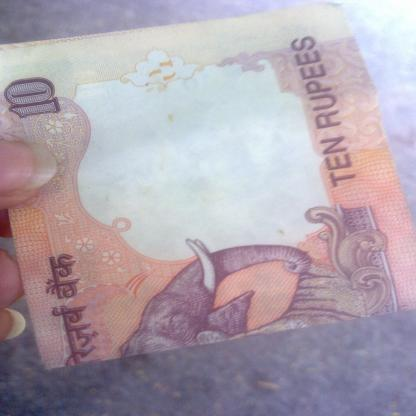Old10Back: (0, 1, 415, 372)
